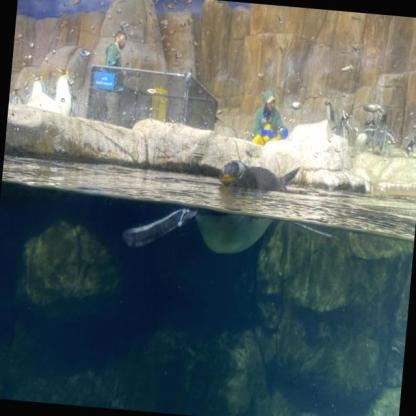penguin: (119, 152, 340, 270), (359, 109, 400, 159), (50, 64, 82, 120), (24, 70, 48, 111), (336, 110, 360, 144), (322, 99, 338, 128), (8, 84, 26, 109), (413, 120, 415, 169)
